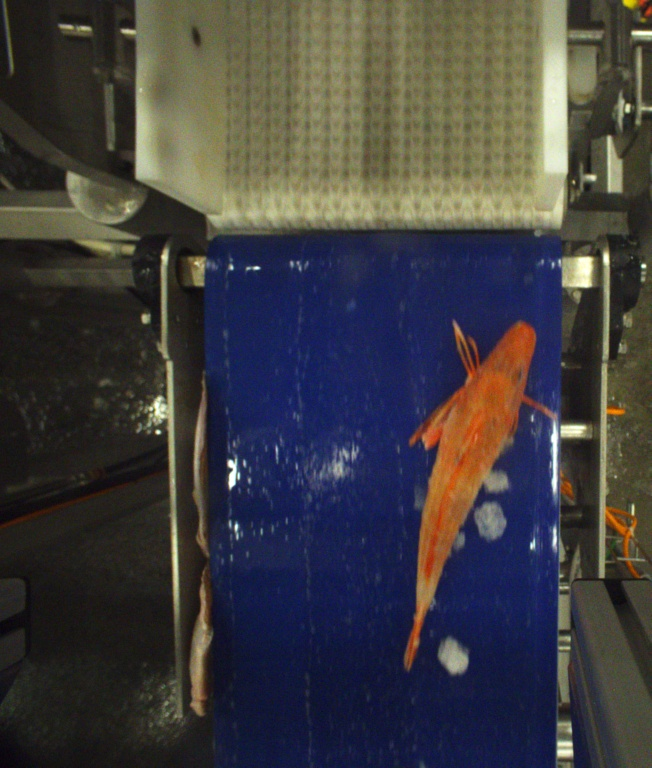GUU: (406, 319, 556, 681)
